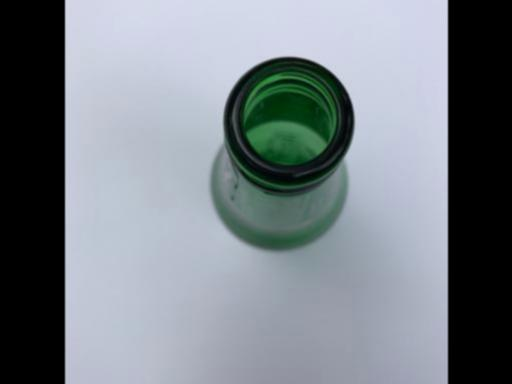glass: (210, 56, 356, 251)
sodocalcique: (210, 56, 356, 251)
